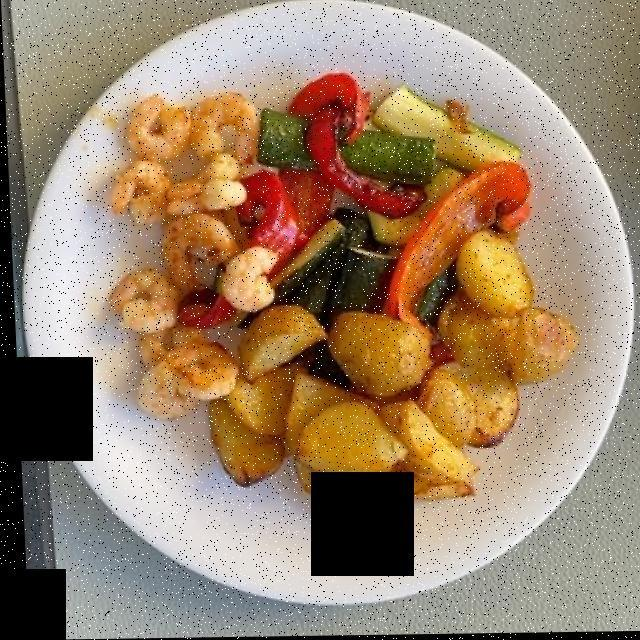shrimp: (105, 91, 276, 423)
